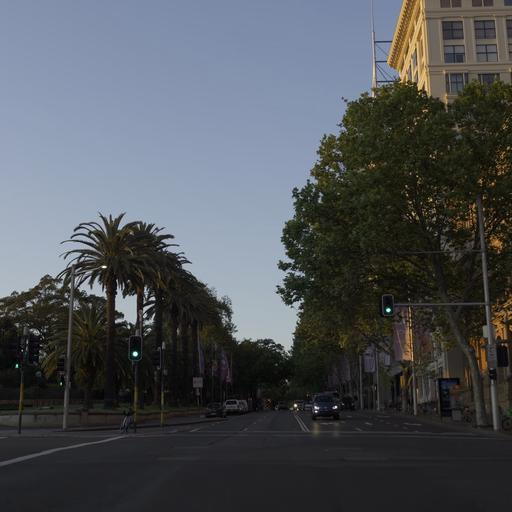Street light: (378, 192, 502, 431), (61, 262, 107, 430), (26, 333, 41, 365), (127, 334, 142, 362), (379, 293, 394, 316)
